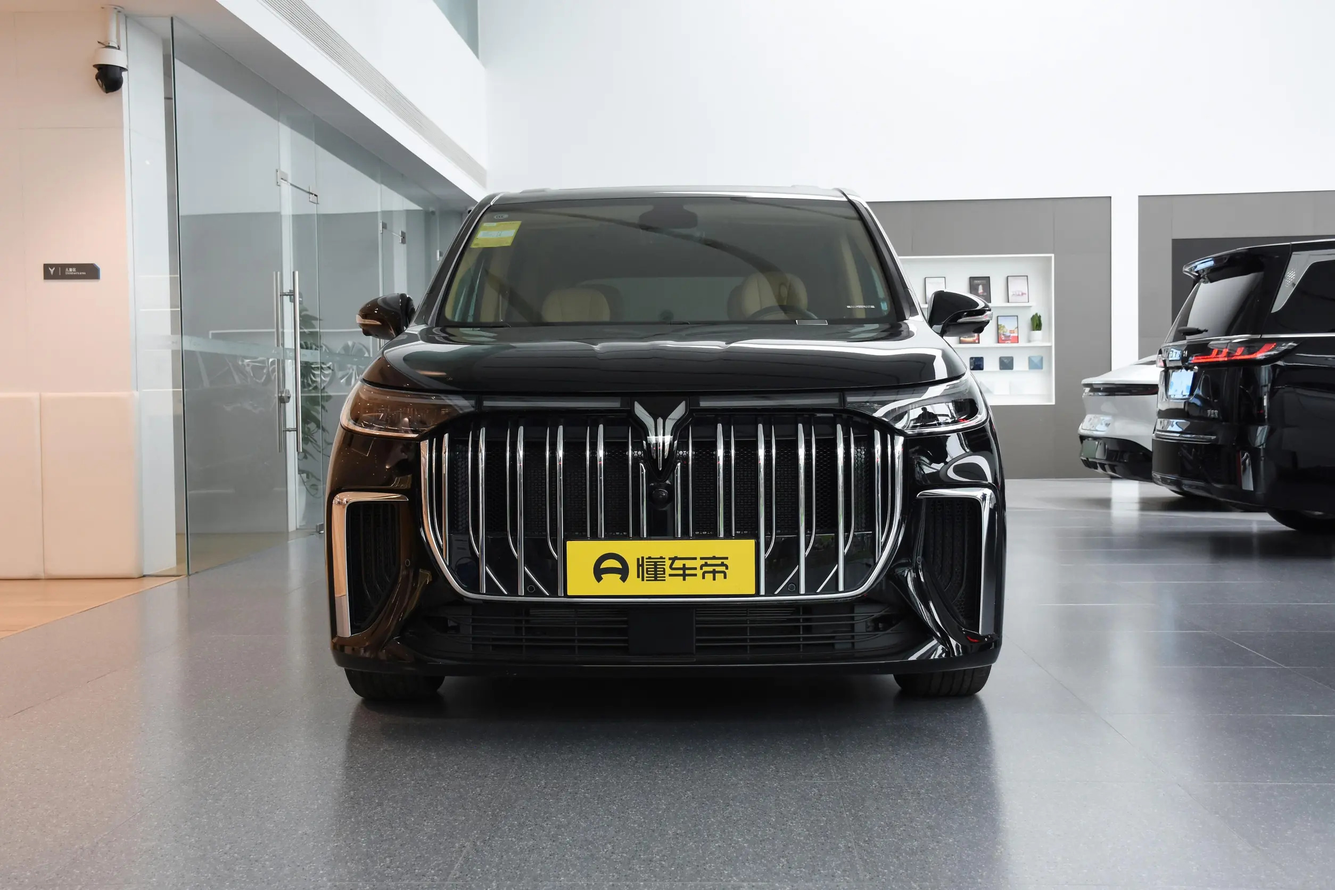VOYAH: (634, 401, 685, 470)
